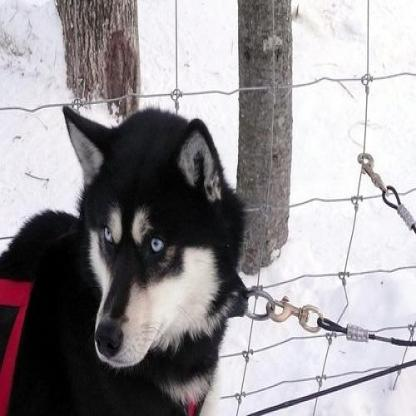Eskimo_dog: (0, 101, 248, 414)
